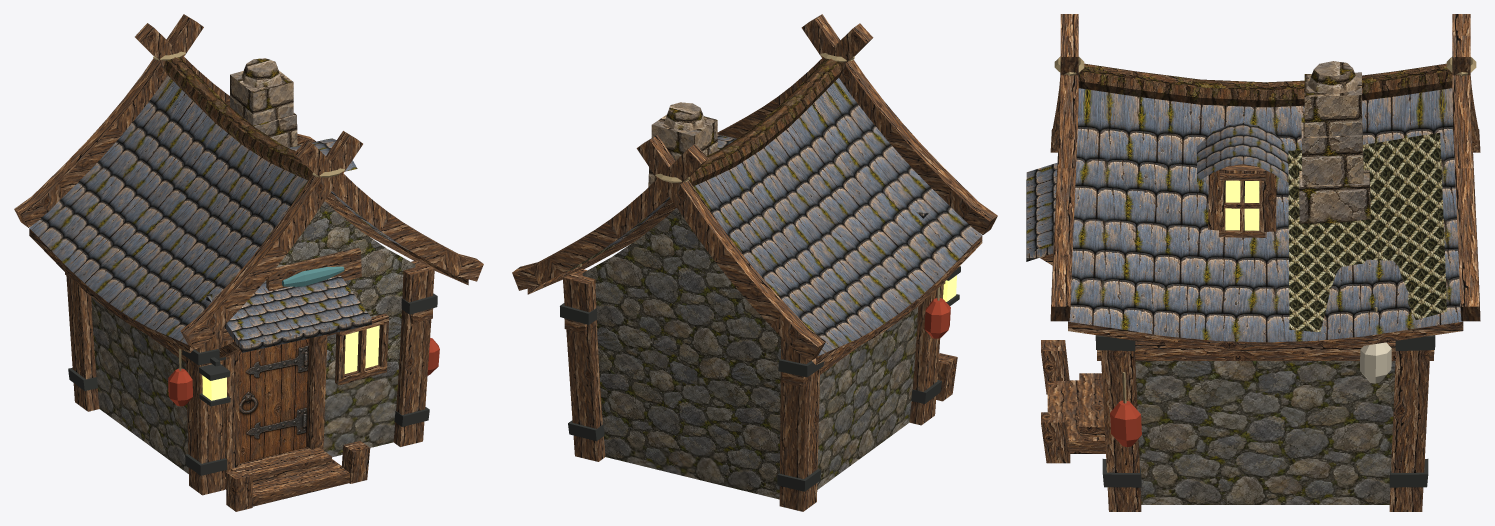
File: house-lake-02.glb
3 views of the same model, side by side, from view 1: azimuth 30°, elevation 25°; view 2: azimuth 150°, elevation 25°; view 3: azimuth 270°, elevation 25° (orthographic). The views are drawn at different scales.
Parts seen in each view (by area): view 1: roof_-1, gable_-1, side_-1, door, porch_roof, barge_-1_-1, barge_1_-1, post_1_-1, barge_-1_1, ridge, post_-1_-1, chimney (+19 smaller); view 2: roof_-1, gable_1, side_-1, barge_1_-1, barge_-1_-1, post_-1_1, barge_1_1, post_1_1, ridge, post_-1_-1, barge_-1_1, chimney (+7 smaller); view 3: roof_1, side_1, net, chimney, ridge, barge_1_1, barge_-1_1, post_1_1, roof_edge_1, post_1_-1, dormer_roof, plate_1 (+15 smaller).
Boxes of the visible parts, x1,y1,x2,y2 form: roof_-1: (29,76,308,344); gable_-1: (263,201,415,457); side_-1: (91,297,188,473); door: (239,338,309,463); porch_roof: (206,276,371,352); barge_-1_-1: (180,131,362,349); barge_1_-1: (14,14,203,227); post_1_-1: (393,259,434,446); barge_-1_1: (294,140,483,281); ridge: (163,57,312,180); post_-1_-1: (186,327,225,495); chimney: (230,71,297,147); roof_-1: (693,78,981,355); gable_1: (582,208,780,499); side_-1: (817,306,918,489); barge_1_-1: (636,135,825,361); barge_-1_-1: (801,14,997,234); post_-1_1: (779,337,819,511); barge_1_1: (512,144,708,290); post_1_1: (562,267,605,461); ridge: (689,58,843,186); post_-1_-1: (909,283,943,425); barge_-1_1: (717,23,873,138); chimney: (641,114,717,236); roof_1: (1068,88,1462,342); side_1: (1135,361,1395,504); net: (1288,133,1446,331); chimney: (1299,72,1370,223); ridge: (1078,63,1452,107); barge_1_1: (1452,14,1480,321); barge_-1_1: (1050,14,1078,321); post_1_1: (1389,350,1430,511); roof_edge_1: (1068,321,1463,351); post_1_-1: (1100,350,1141,511); dormer_roof: (1197,123,1288,182); plate_1: (1097,341,1434,360).
Bounding box in the file's own units: 2.84 × 3.14 × 3.07.
Materials: 14 (8 with a texture image).
